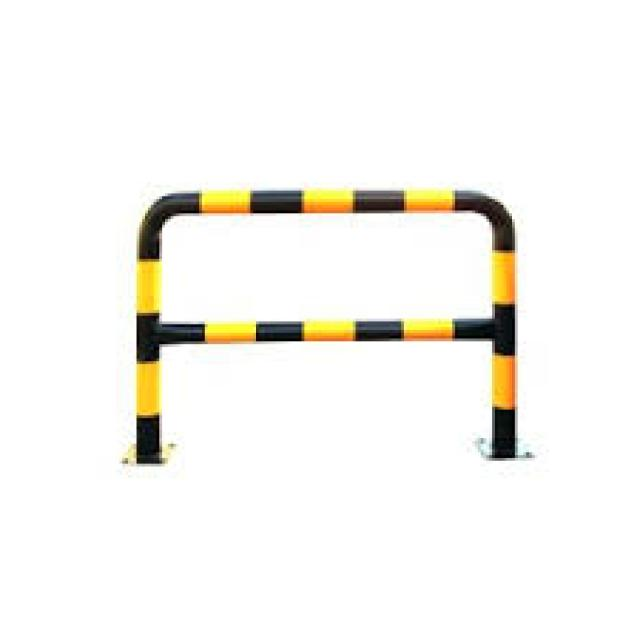bollard: (108, 169, 544, 477)
